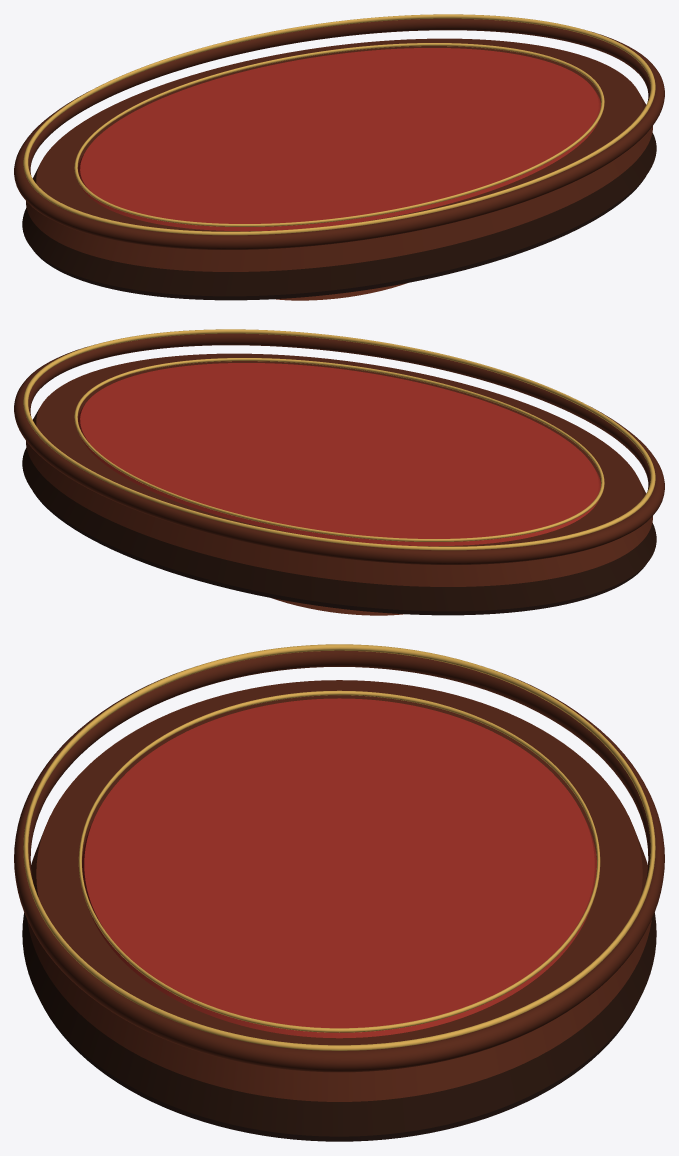
File: card-table.glb
3 renders of one model, top to bottom at view 1: azimuth 30°, elevation 25°; view 2: azimuth 150°, elevation 25°; view 3: azimuth 270°, elevation 25°, orthographic. The views are drawn at different scales.
Visible parts, largest first — view 1: FeltInset, TableTop, PaddedOuterRail, TableApron, BrassRim, RaisedInnerFeltBevel, LowerShadowLip, WeightedFoot; view 2: FeltInset, TableTop, PaddedOuterRail, TableApron, BrassRim, RaisedInnerFeltBevel, LowerShadowLip, WeightedFoot; view 3: FeltInset, TableTop, PaddedOuterRail, TableApron, BrassRim, RaisedInnerFeltBevel, LowerShadowLip.
Boxes of the visible parts, x1,y1,x2,y2 form: FeltInset: (78,48,600,231); TableTop: (26,38,652,271); PaddedOuterRail: (14,18,664,249); TableApron: (22,132,656,296); BrassRim: (23,14,655,235); RaisedInnerFeltBevel: (74,43,604,226); LowerShadowLip: (32,176,645,300); WeightedFoot: (275,283,407,300); FeltInset: (78,363,600,546); TableTop: (26,353,652,586); PaddedOuterRail: (14,333,664,564); TableApron: (22,447,656,611); BrassRim: (23,329,655,550); RaisedInnerFeltBevel: (74,358,604,541); LowerShadowLip: (33,491,646,615); WeightedFoot: (271,598,403,615); FeltInset: (82,698,596,1038); TableTop: (27,680,651,1101); PaddedOuterRail: (14,650,664,1072); TableApron: (22,913,656,1136); BrassRim: (23,644,655,1050); RaisedInnerFeltBevel: (78,690,600,1032); LowerShadowLip: (41,1003,637,1141).
Bounding box in the file's own units: 11.02 × 2.37 × 7.29.
